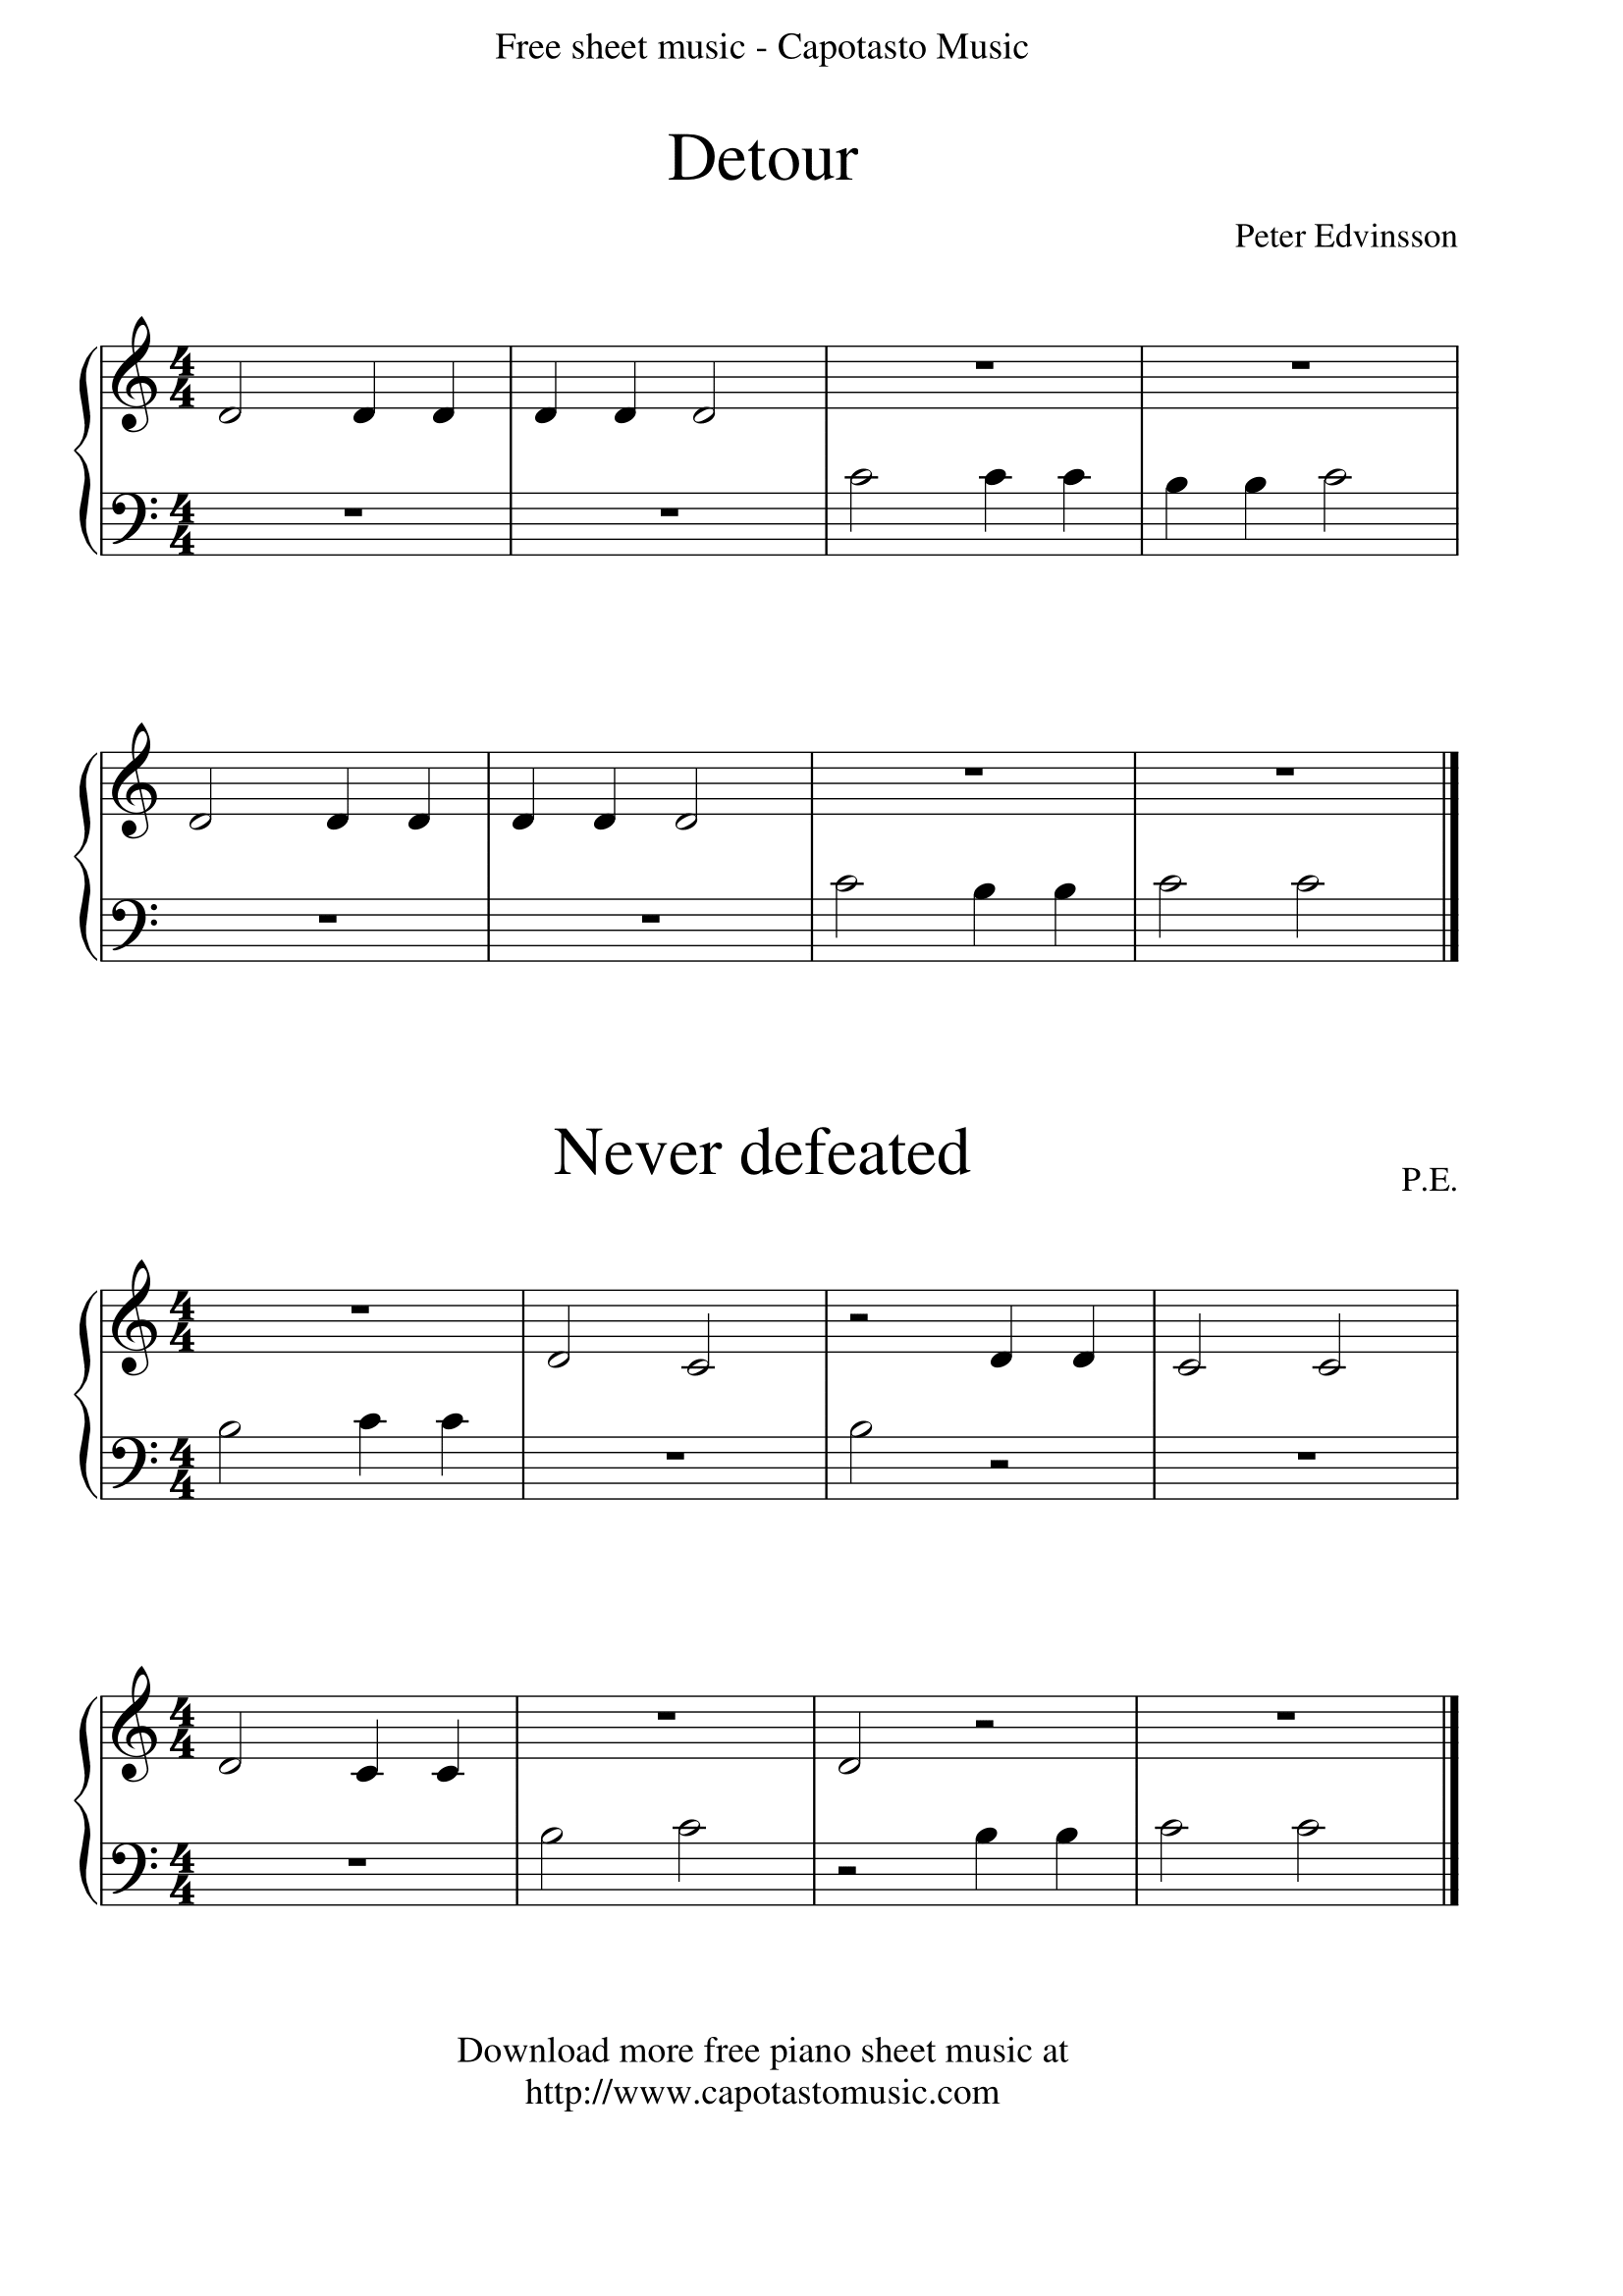half: (1303, 1287, 1367, 1406), (1170, 1288, 1223, 1404), (1300, 462, 1367, 553), (673, 1288, 731, 1390), (1275, 860, 1331, 964), (669, 751, 720, 865), (1275, 1817, 1333, 1906), (181, 751, 234, 850), (536, 1288, 590, 1383), (662, 1819, 715, 1908), (1147, 864, 1193, 965), (829, 1696, 880, 1787), (836, 463, 884, 558), (1147, 1819, 1196, 1908), (826, 865, 869, 964), (209, 1696, 256, 1785), (527, 1822, 574, 1908), (685, 362, 732, 446), (836, 1422, 887, 1499), (209, 1411, 248, 1499), (220, 346, 251, 434)
quarter: (938, 858, 1008, 965), (306, 750, 372, 855), (334, 1399, 393, 1497), (502, 750, 555, 858), (427, 1694, 478, 1803), (1061, 1287, 1108, 1399), (978, 1290, 1029, 1394), (346, 344, 400, 441), (346, 1697, 395, 1801), (590, 750, 636, 860), (427, 1396, 474, 1499), (1050, 458, 1096, 558), (408, 751, 450, 858), (970, 462, 1019, 553), (430, 348, 474, 442), (1231, 463, 1275, 558), (1151, 467, 1196, 556), (608, 346, 650, 442), (1042, 1820, 1089, 1905), (532, 346, 574, 437), (963, 1822, 1008, 1906), (1045, 865, 1080, 964)
